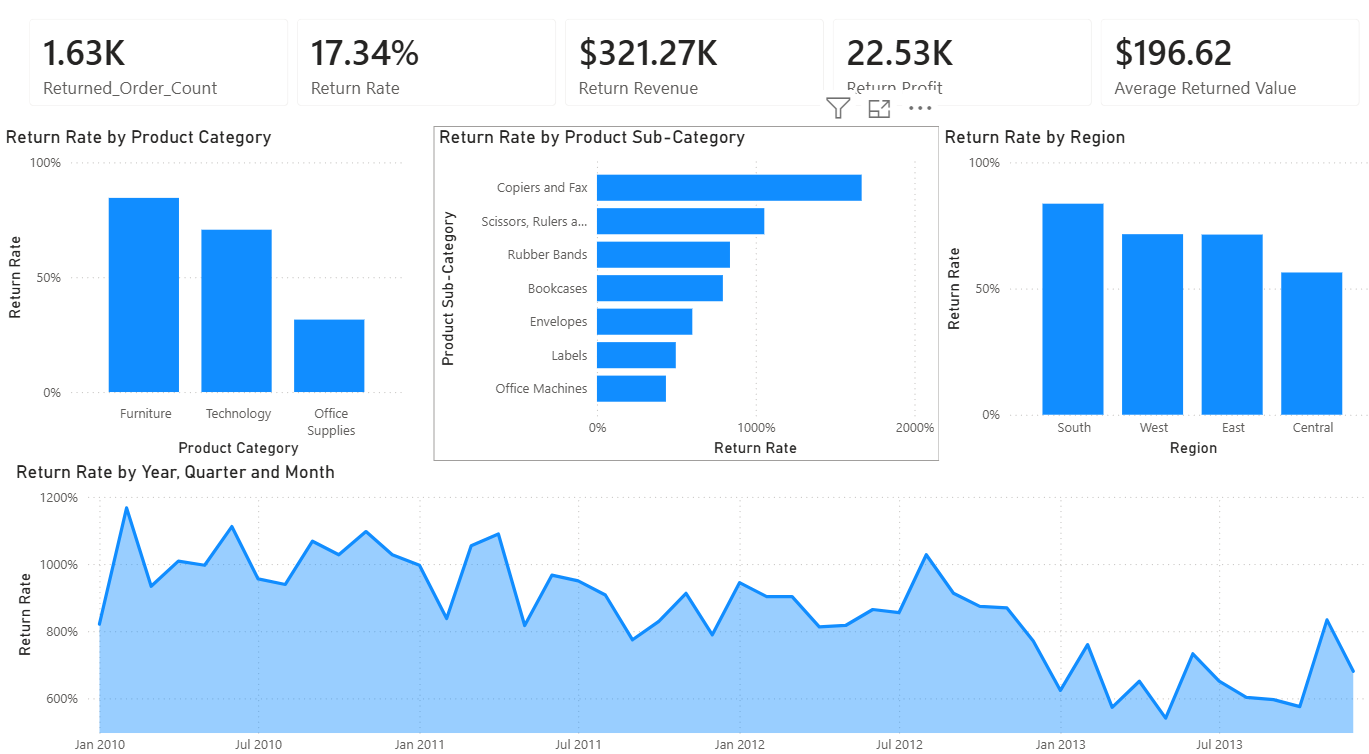

This screenshot's page, from the dashboard's own definition file:
{"tool":"powerbi","page":{"name":"Return Analysis","canvas":[1280,720],"ordinal":2},"visuals":[{"type":"cardVisual","fields":{"Data":["Dax Measures.Returned_Order_Count","Dax Measures.Return Rate","Dax Measures.Return Revenue","Dax Measures.Return Profit","Dax Measures.Average Returned Value"]},"box":[9.5,0,1269.8,115.9],"z":0},{"type":"lineChart","fields":{"Category":["Dim Date.Date.Variation.Date Hierarchy.Year","Dim Date.Date.Variation.Date Hierarchy.Quarter","Dim Date.Date.Variation.Date Hierarchy.Month"],"Y":["Dax Measures.Return Rate"]},"box":[10,426,1270,294],"z":1000},{"type":"columnChart","fields":{"Category":["Dim Product.Product Category"],"Y":["Dax Measures.Return Rate"]},"box":[0,116,380,310],"z":2000},{"type":"barChart","fields":{"Category":["Dim Product.Product Sub-Category"],"Y":["Dax Measures.Return Rate"]},"box":[402,116,468,310],"z":3000},{"type":"columnChart","fields":{"Category":["Dim Location.Region"],"Y":["Dax Measures.Return Rate"]},"box":[870,116,410,310],"z":4000}]}

Visuals, with their boxes in screenshot pixels (x1, y1, x2, y2), scaled from the page's 1280x720 canvas onto the 1369x754 screenshot:
cardVisual - Dax Measures.Returned_Order_Count x Dax Measures.Return Rate: 10 0 1368 121
lineChart - Dim Date.Date.Variation.Date Hierarchy.Year x Dim Date.Date.Variation.Date Hierarchy.Quarter: 11 446 1368 753
columnChart - Dim Product.Product Category x Dax Measures.Return Rate: 0 121 406 446
barChart - Dim Product.Product Sub-Category x Dax Measures.Return Rate: 430 121 930 446
columnChart - Dim Location.Region x Dax Measures.Return Rate: 930 121 1368 446
